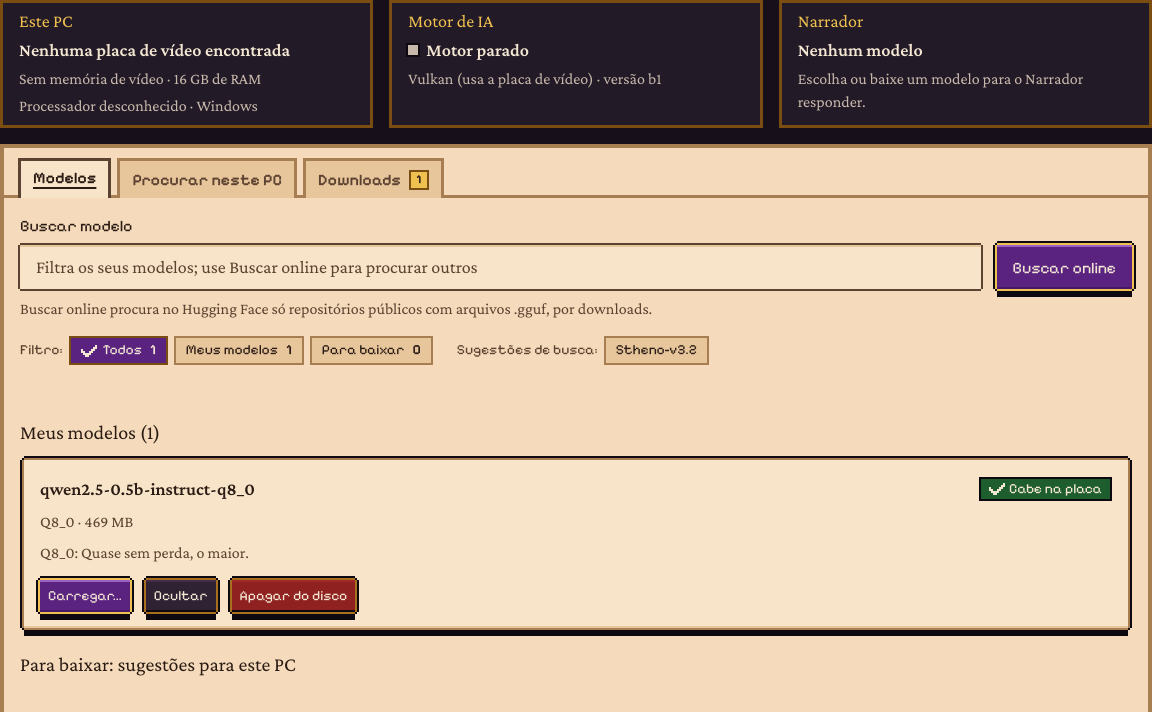
Test: Modelos — Downloads › cancelar, retomar, remover da lista e limpar concluídos
This screenshot has width=1152, height=712.
Click the tab "Downloads 1" at (374, 178), box [303,158,444,198]
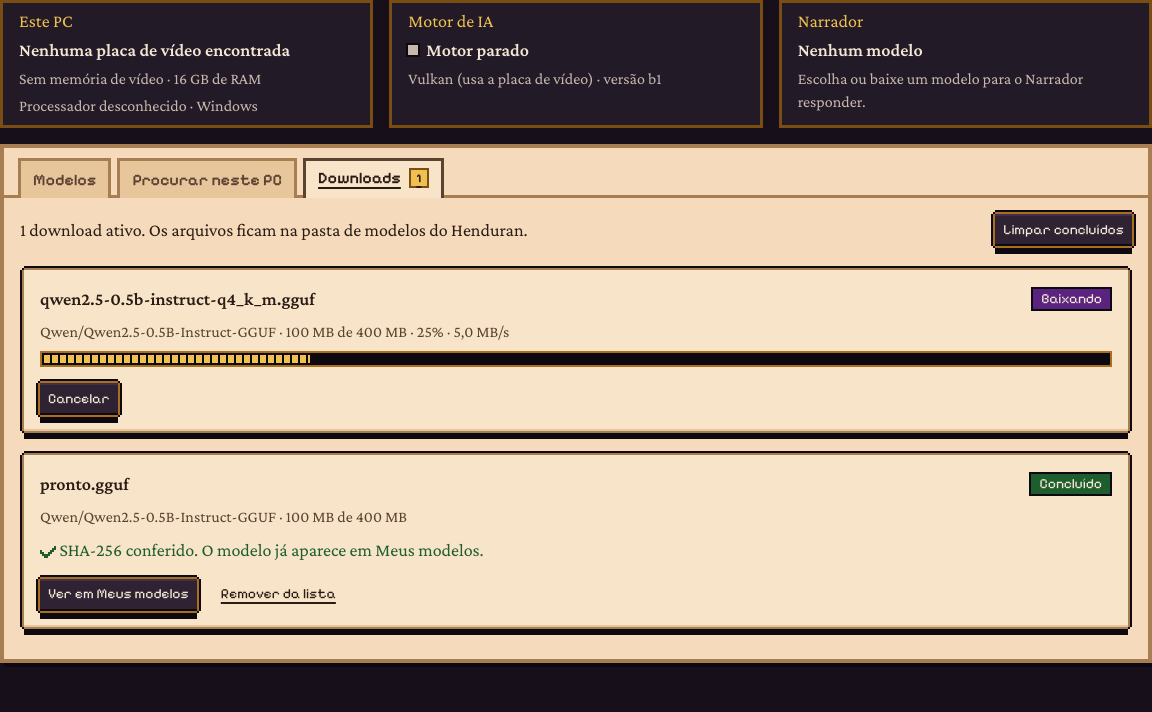
Click the button "Cancelar" at (79, 399), box [40,383,118,415]
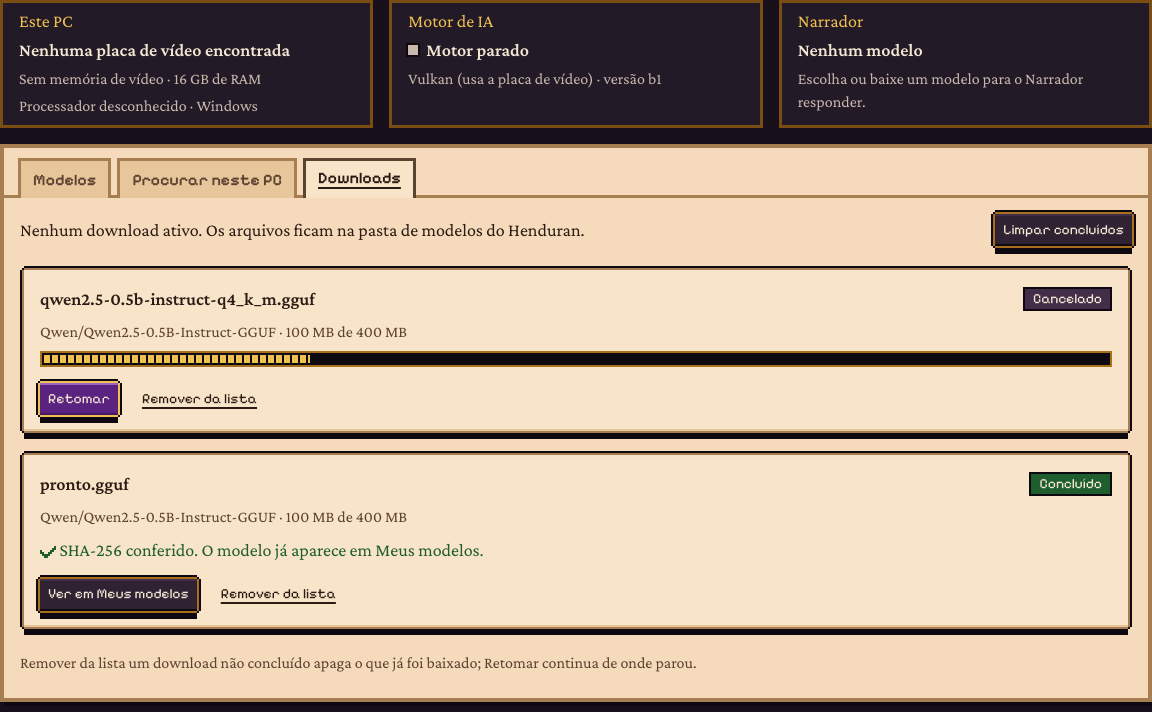
Check: the list named "Lista de downloads" shows "Cancelado", box [1033,290,1102,307]
Check: the text "Remover da lista um download não concluído apaga o que já foi baixado" is shown, box [20,654,697,671]
Click the button "Retomar" at (79, 399), box [40,383,118,415]
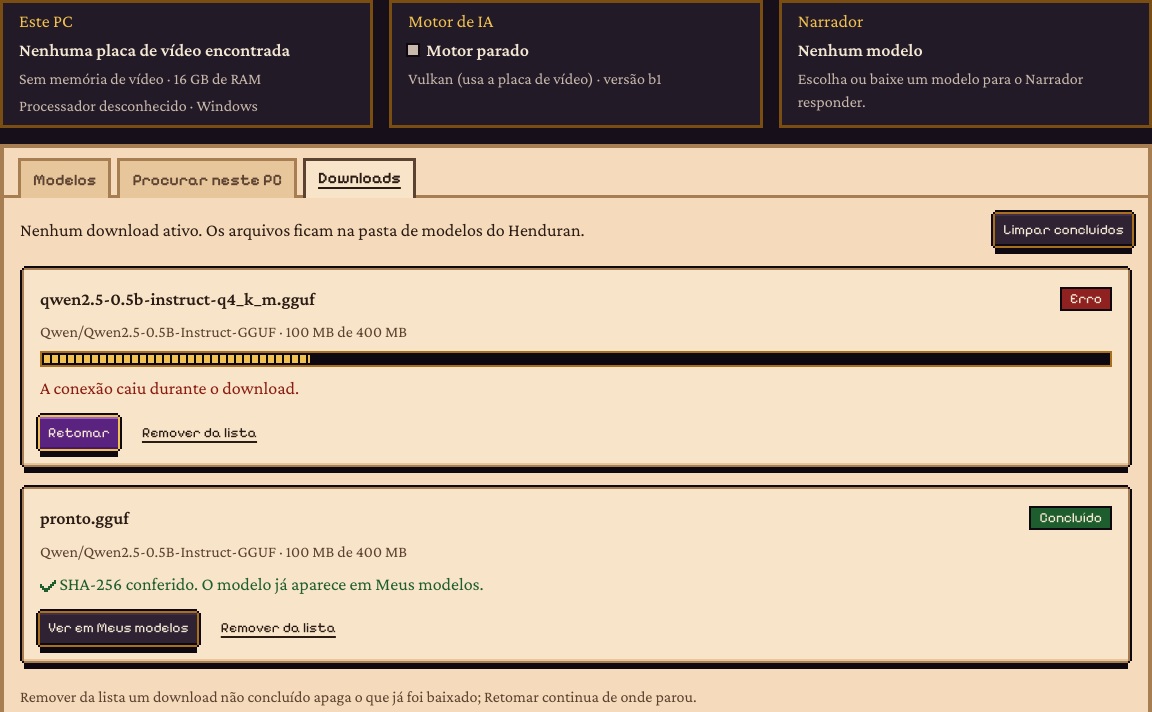
Check: the list named "Lista de downloads" shows "A conexão caiu durante o download.", box [40,378,299,398]
Click the button "Limpar concluídos" at (1064, 230), box [995,214,1132,246]
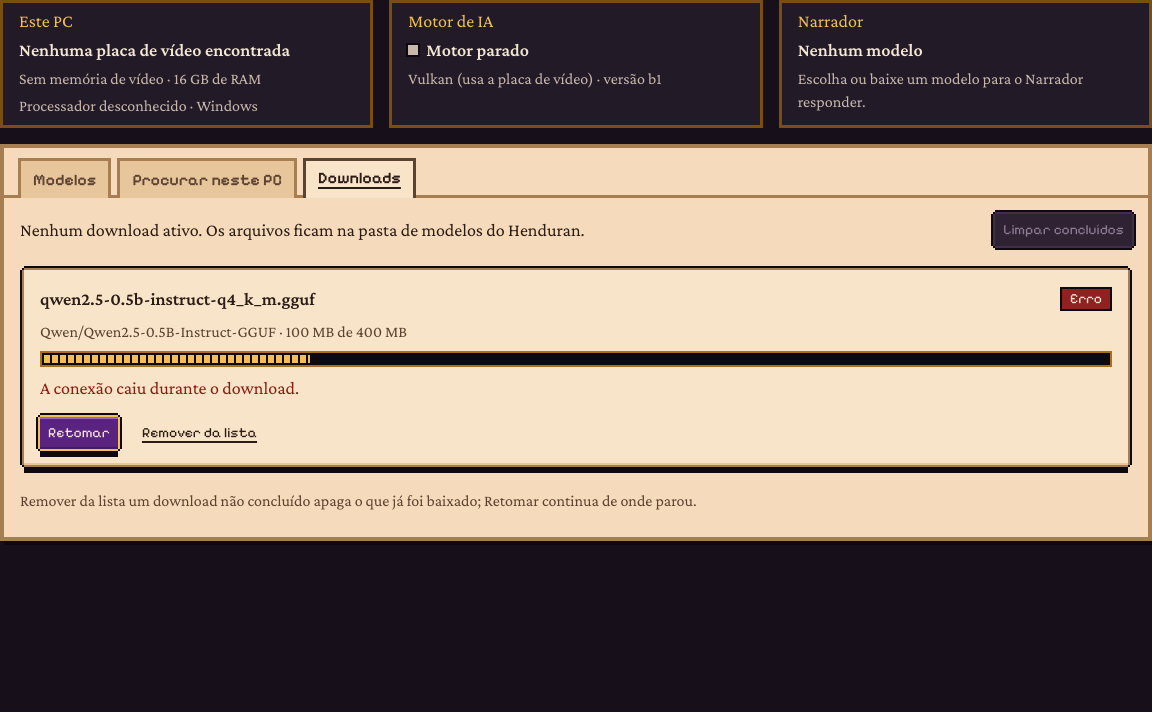
Check: the list named "Lista de downloads" does not show "pronto.gguf", box [20,262,1132,474]
Click the button "Remover da lista" at (200, 433), box [134,417,265,449]
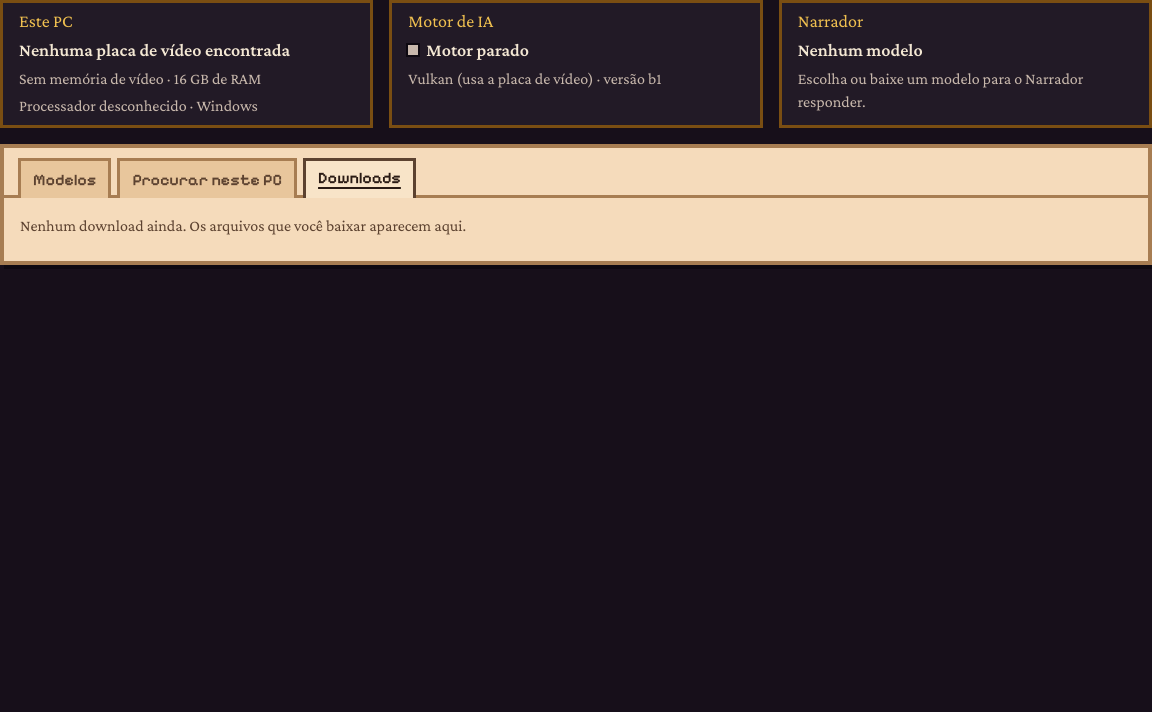
Check: the text "Nenhum download ainda" is shown, box [20,217,466,234]
